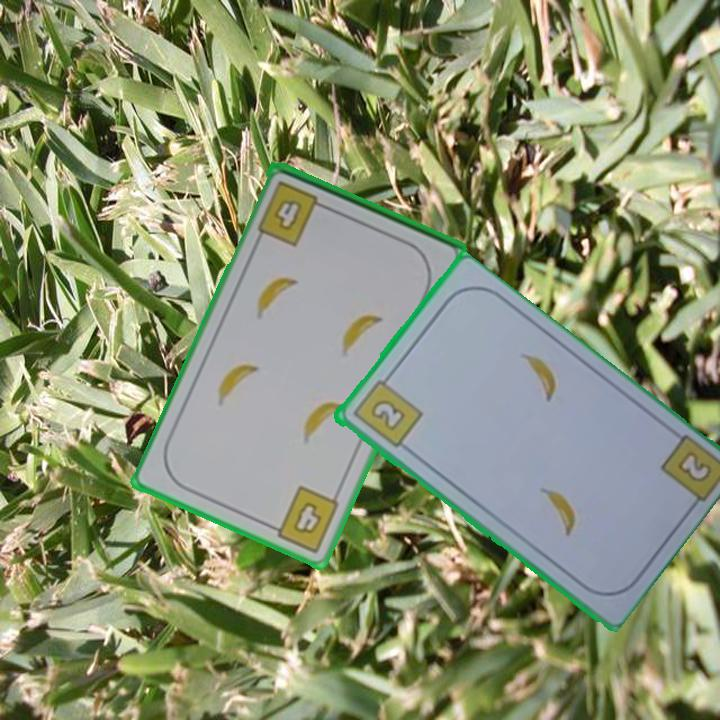2b: (348, 370, 425, 451), (673, 447, 715, 486)
4b: (264, 482, 343, 556), (254, 177, 331, 249)
